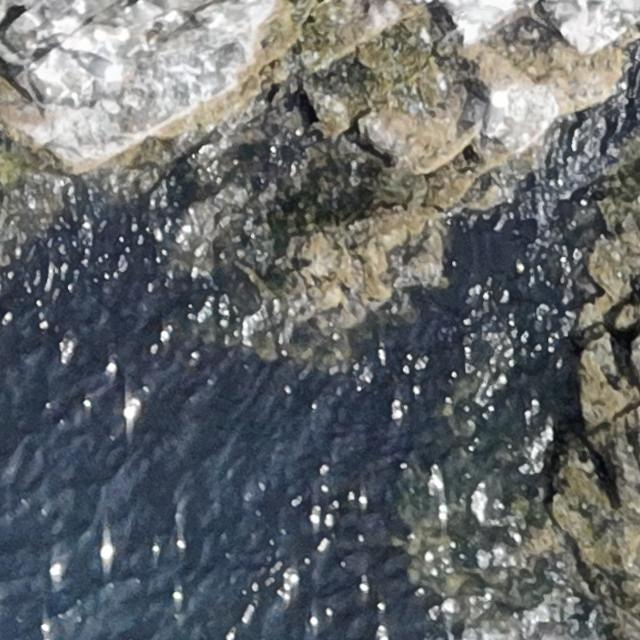umineko: (78, 50, 123, 82), (482, 88, 508, 135)
